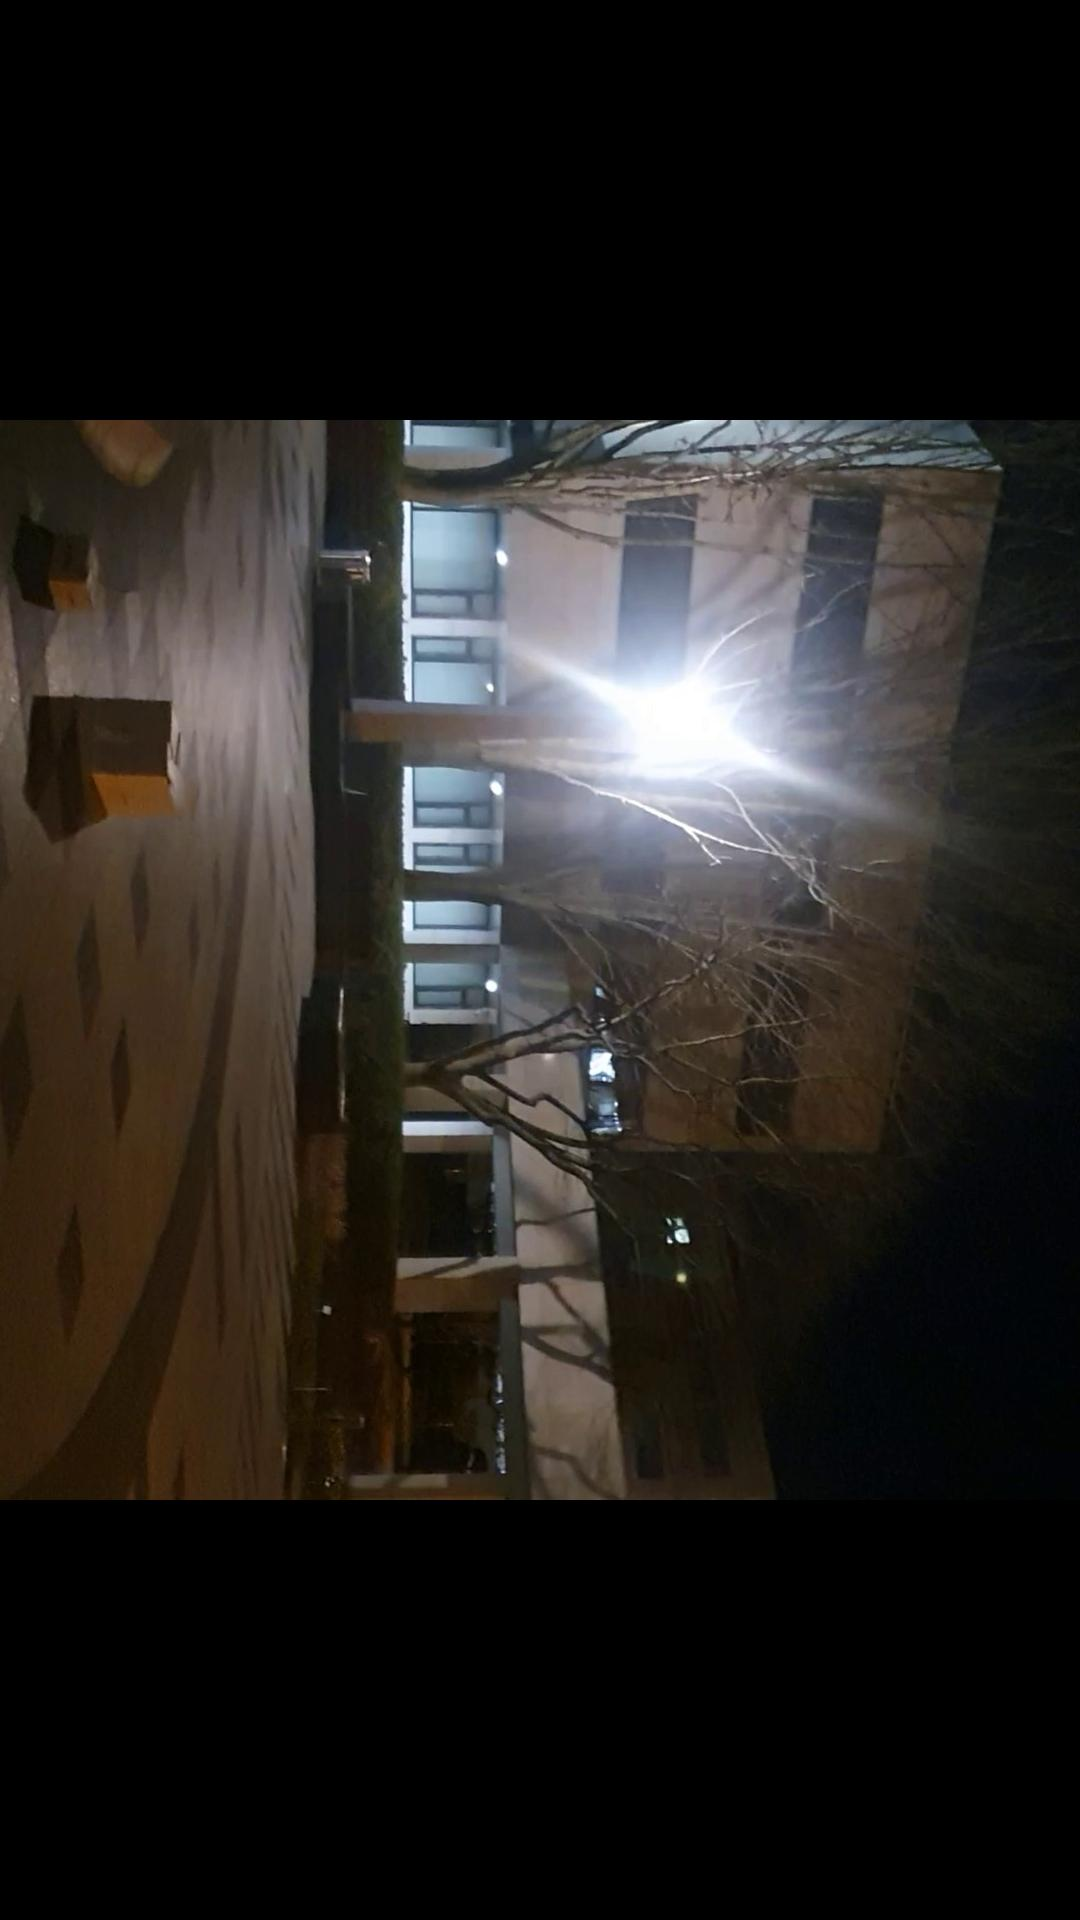Box: (75, 694, 195, 820), (36, 533, 98, 625)
